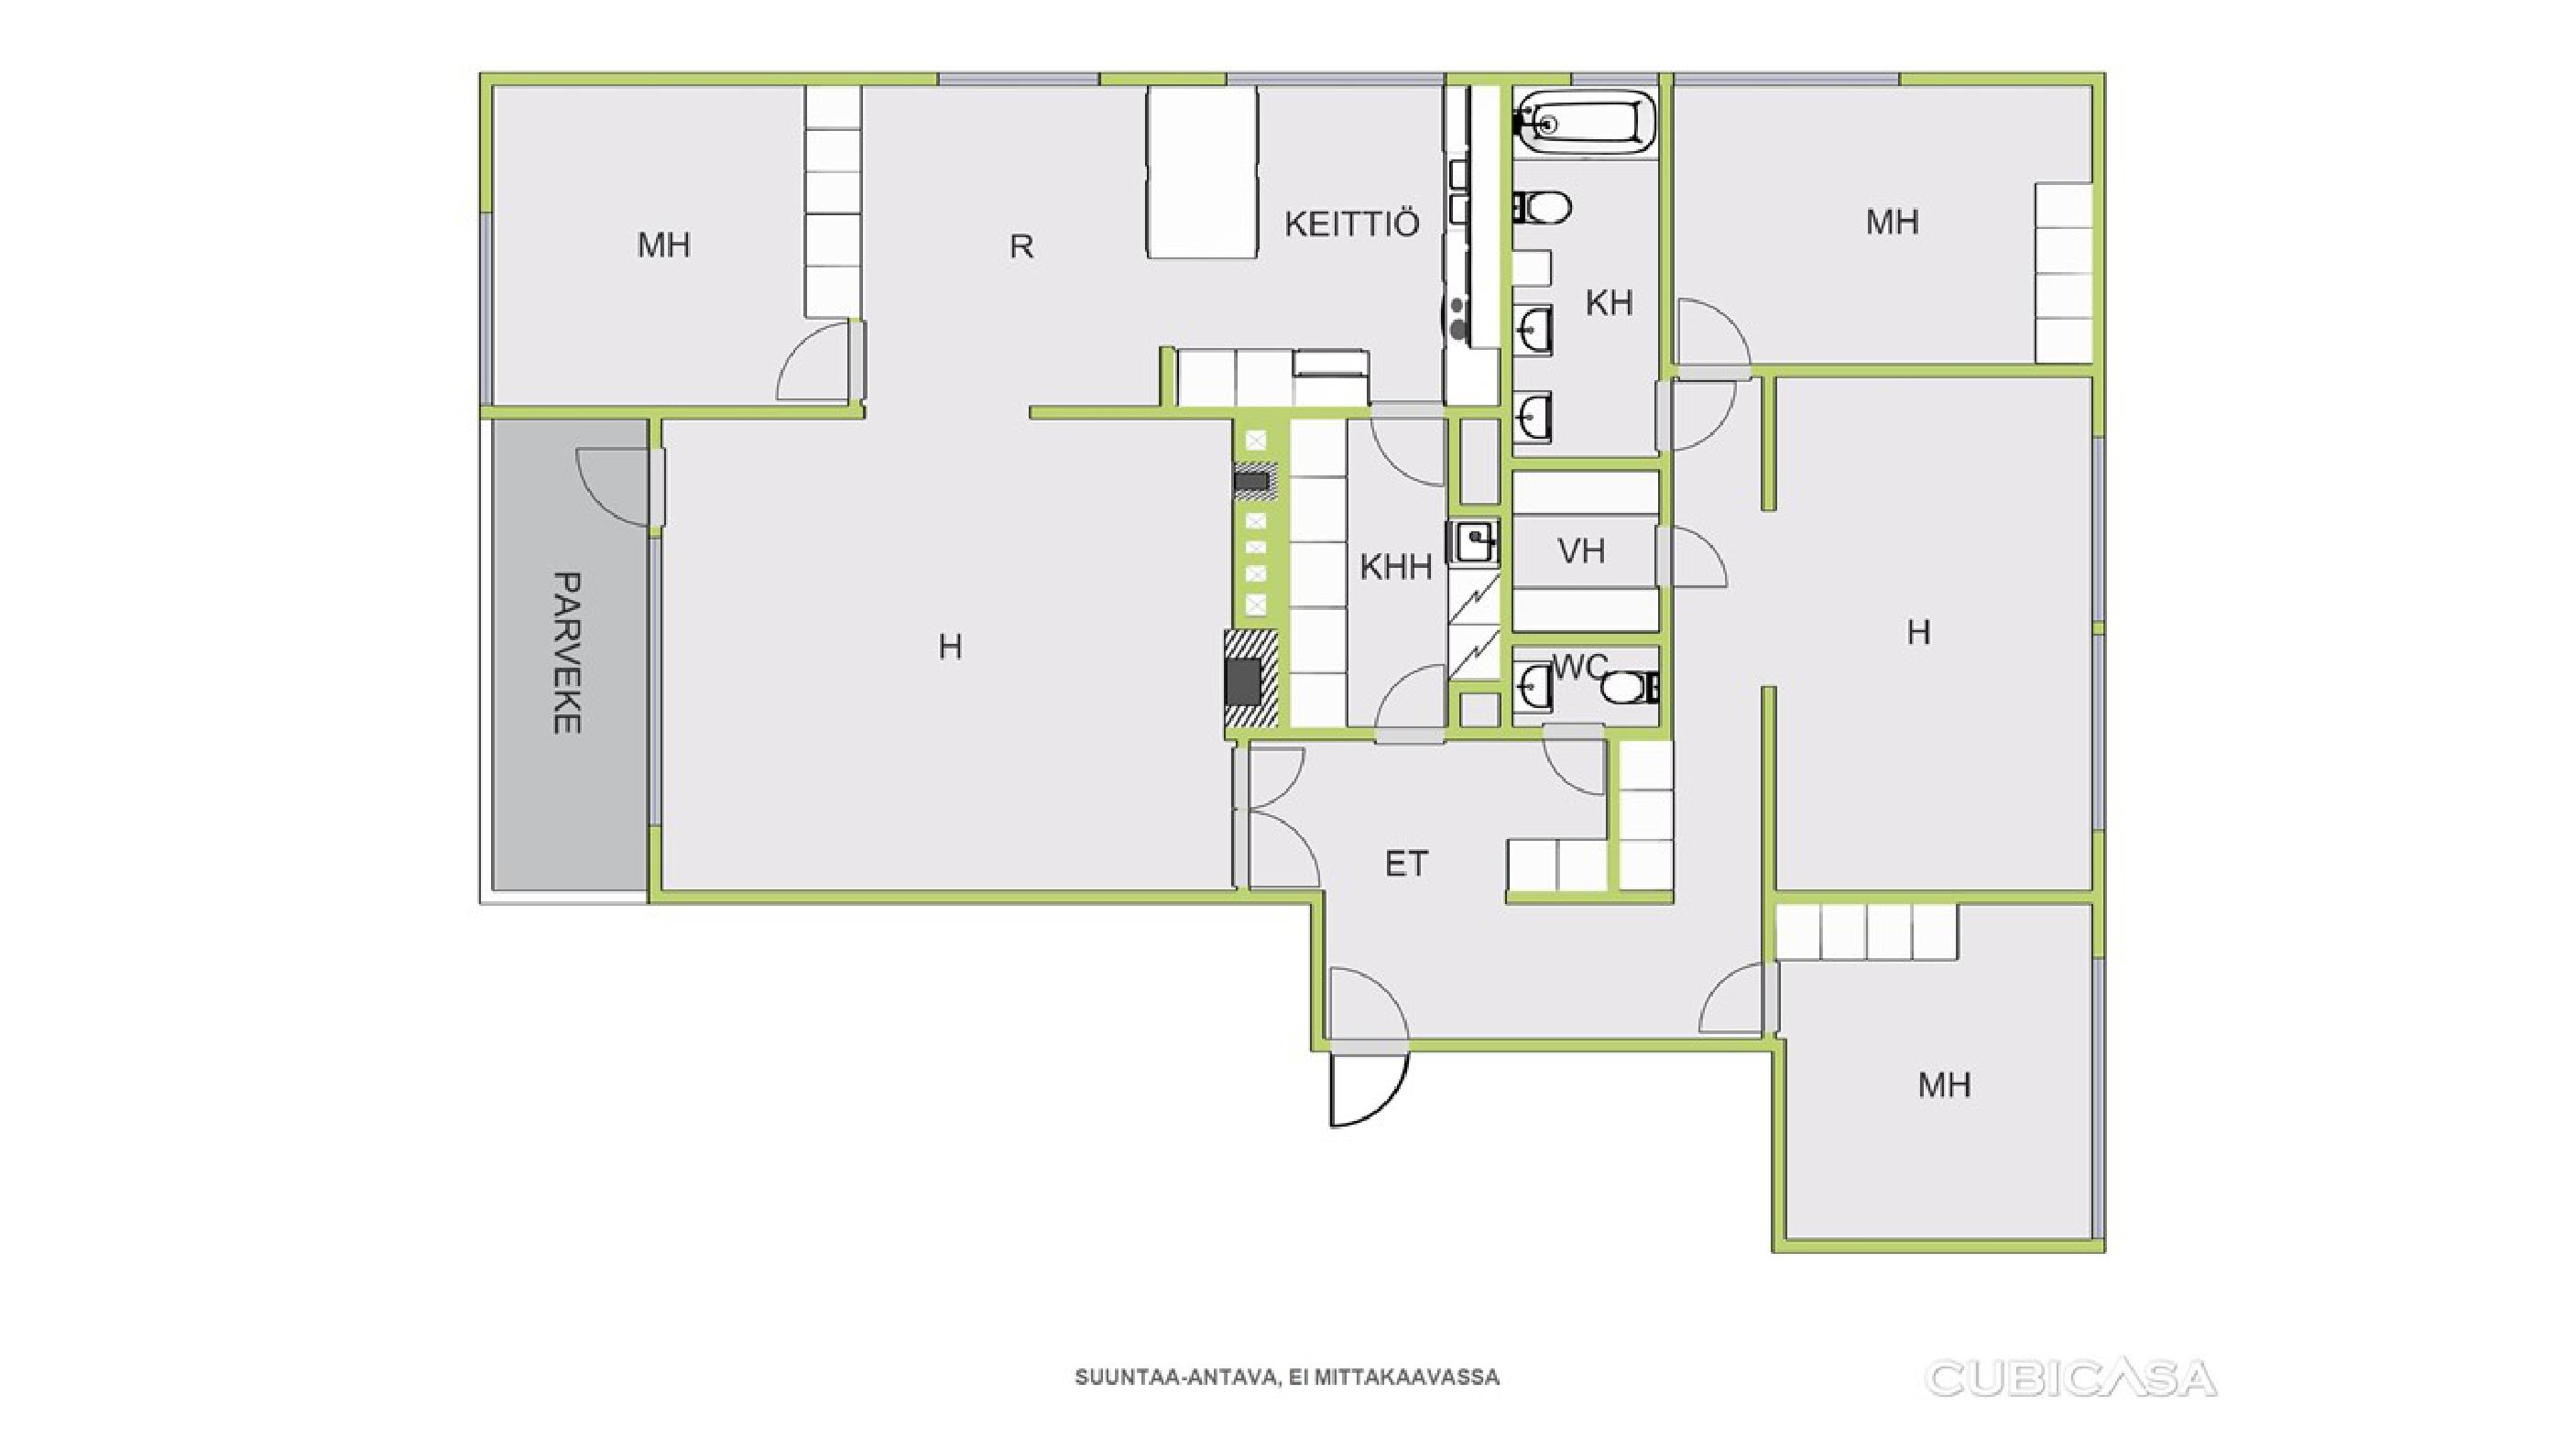door: (1320, 964, 1417, 1131), (564, 442, 678, 541), (768, 320, 872, 410), (1371, 393, 1456, 499), (1226, 809, 1325, 886), (1647, 379, 1739, 462), (1697, 957, 1783, 1044), (1665, 303, 1759, 373), (1380, 669, 1451, 754), (1652, 520, 1736, 591), (1539, 722, 1610, 803), (1230, 741, 1307, 809)
window: (642, 538, 663, 835), (2089, 964, 2112, 1238), (1228, 71, 1445, 94), (1677, 69, 1902, 90), (936, 64, 1106, 90), (476, 209, 494, 412), (2089, 439, 2105, 625), (2091, 637, 2105, 842), (1571, 65, 1658, 92)
zone: (492, 83, 1495, 888), (1256, 81, 1773, 1053), (1769, 377, 2093, 888), (1679, 85, 2089, 372), (1775, 902, 2089, 1240), (495, 421, 642, 888), (1290, 410, 1490, 727)
